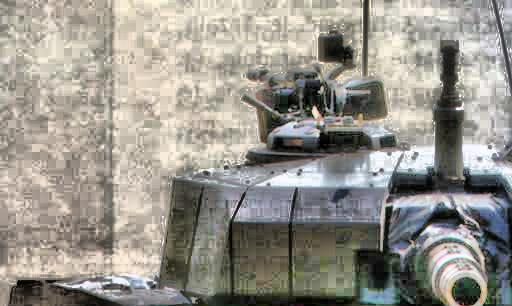tanks: (9, 37, 512, 306)
